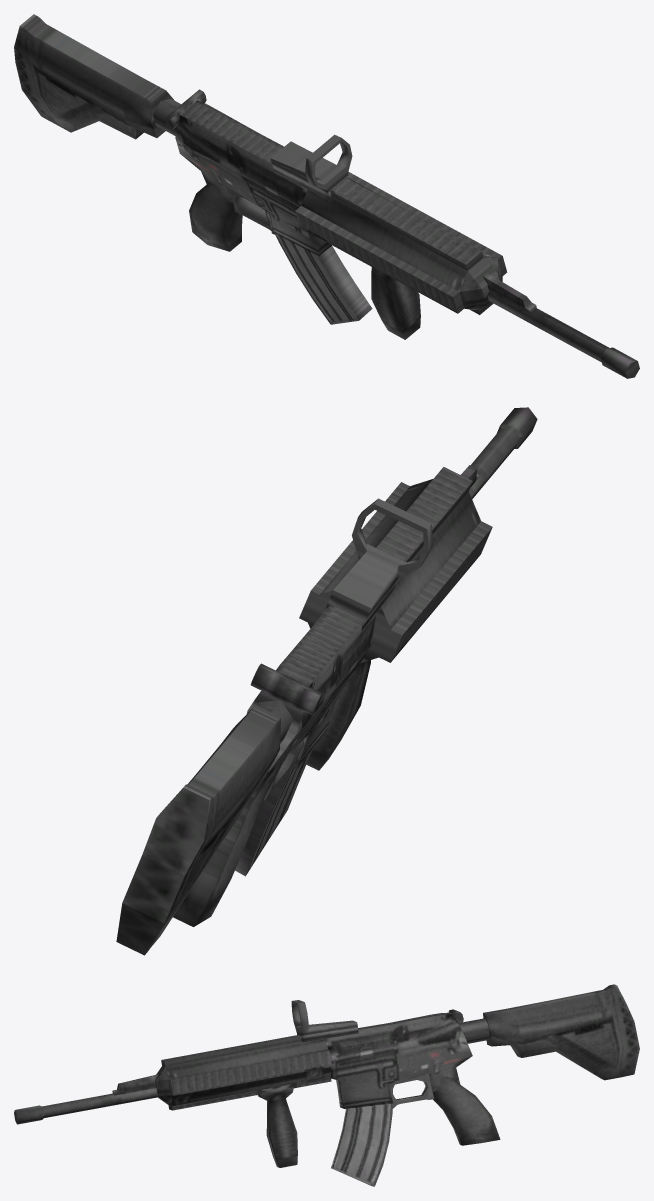
Rendered from P1Rifle.glb.
The picture shows the model from 3 angles, top to bottom: view 1: azimuth 30°, elevation 25°; view 2: azimuth 150°, elevation 25°; view 3: azimuth 270°, elevation 25°; orthographic projection. The views are drawn at different scales.
Visible parts, largest first — view 1: Rifle; view 2: Rifle; view 3: Rifle.
Part boxes in pixels (bbox=[...]): Rifle: bbox=[14, 14, 639, 378]; Rifle: bbox=[116, 407, 537, 955]; Rifle: bbox=[14, 984, 639, 1186].
Bounding box in the file's own units: 2234 × 2422 × 8126.
Materials: 1 (1 with a texture image).
